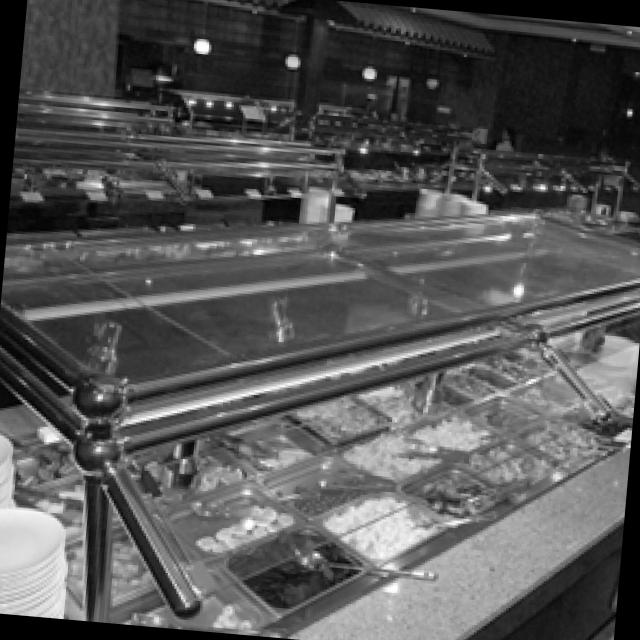buffet: (159, 83, 640, 234)
dishes crop: (413, 184, 439, 208)
dishes occluded: (0, 503, 66, 614), (0, 431, 13, 506)
food procesor: (233, 529, 346, 604), (323, 494, 438, 556), (196, 504, 290, 546), (469, 444, 543, 486), (418, 472, 488, 512)
lamp crop: (189, 30, 209, 51), (280, 51, 298, 67), (357, 60, 372, 78), (421, 73, 436, 86)
showcase: (6, 123, 361, 234), (16, 85, 171, 129)
showcase occluded: (0, 205, 640, 640)
spoon occluded: (292, 547, 431, 578), (189, 490, 285, 514)
wall clock: (19, 0, 640, 179)
